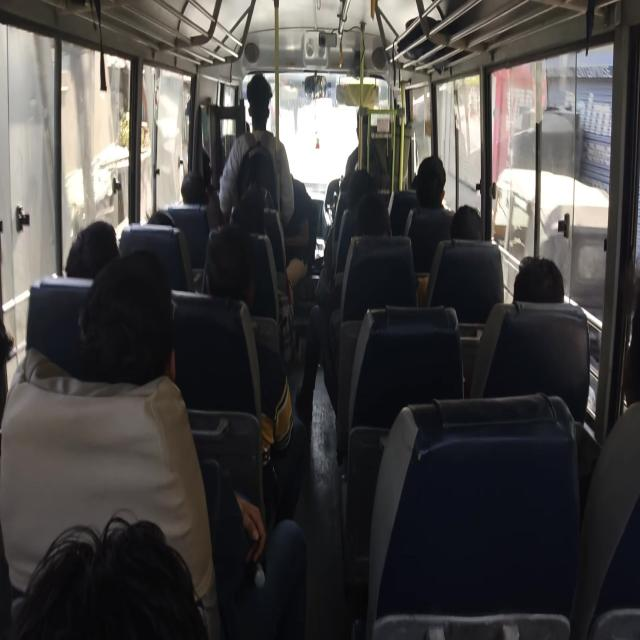person: (42, 498, 204, 640), (73, 254, 176, 405), (357, 194, 428, 279), (199, 250, 262, 330), (504, 234, 556, 316), (251, 51, 290, 140), (613, 314, 640, 430), (449, 205, 511, 252), (64, 217, 110, 274), (346, 170, 388, 219), (176, 171, 212, 214), (418, 152, 446, 206), (396, 149, 428, 193), (240, 169, 277, 202), (234, 200, 266, 233), (152, 197, 174, 241), (195, 138, 221, 166)
